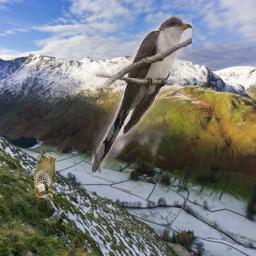Cuckoo: (92, 15, 192, 173)
Sparrow: (34, 154, 56, 198)
